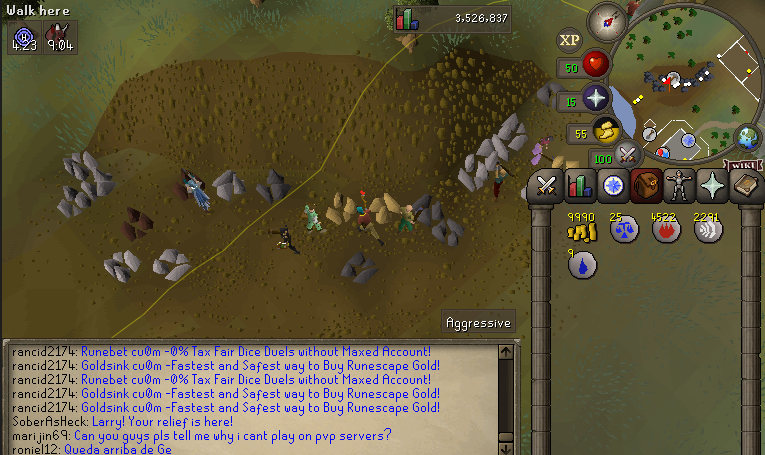depleted: (337, 246, 381, 293), (256, 166, 290, 207), (412, 190, 445, 231), (533, 75, 571, 110), (426, 218, 467, 248)
iron: (117, 204, 156, 246), (169, 168, 209, 206)
